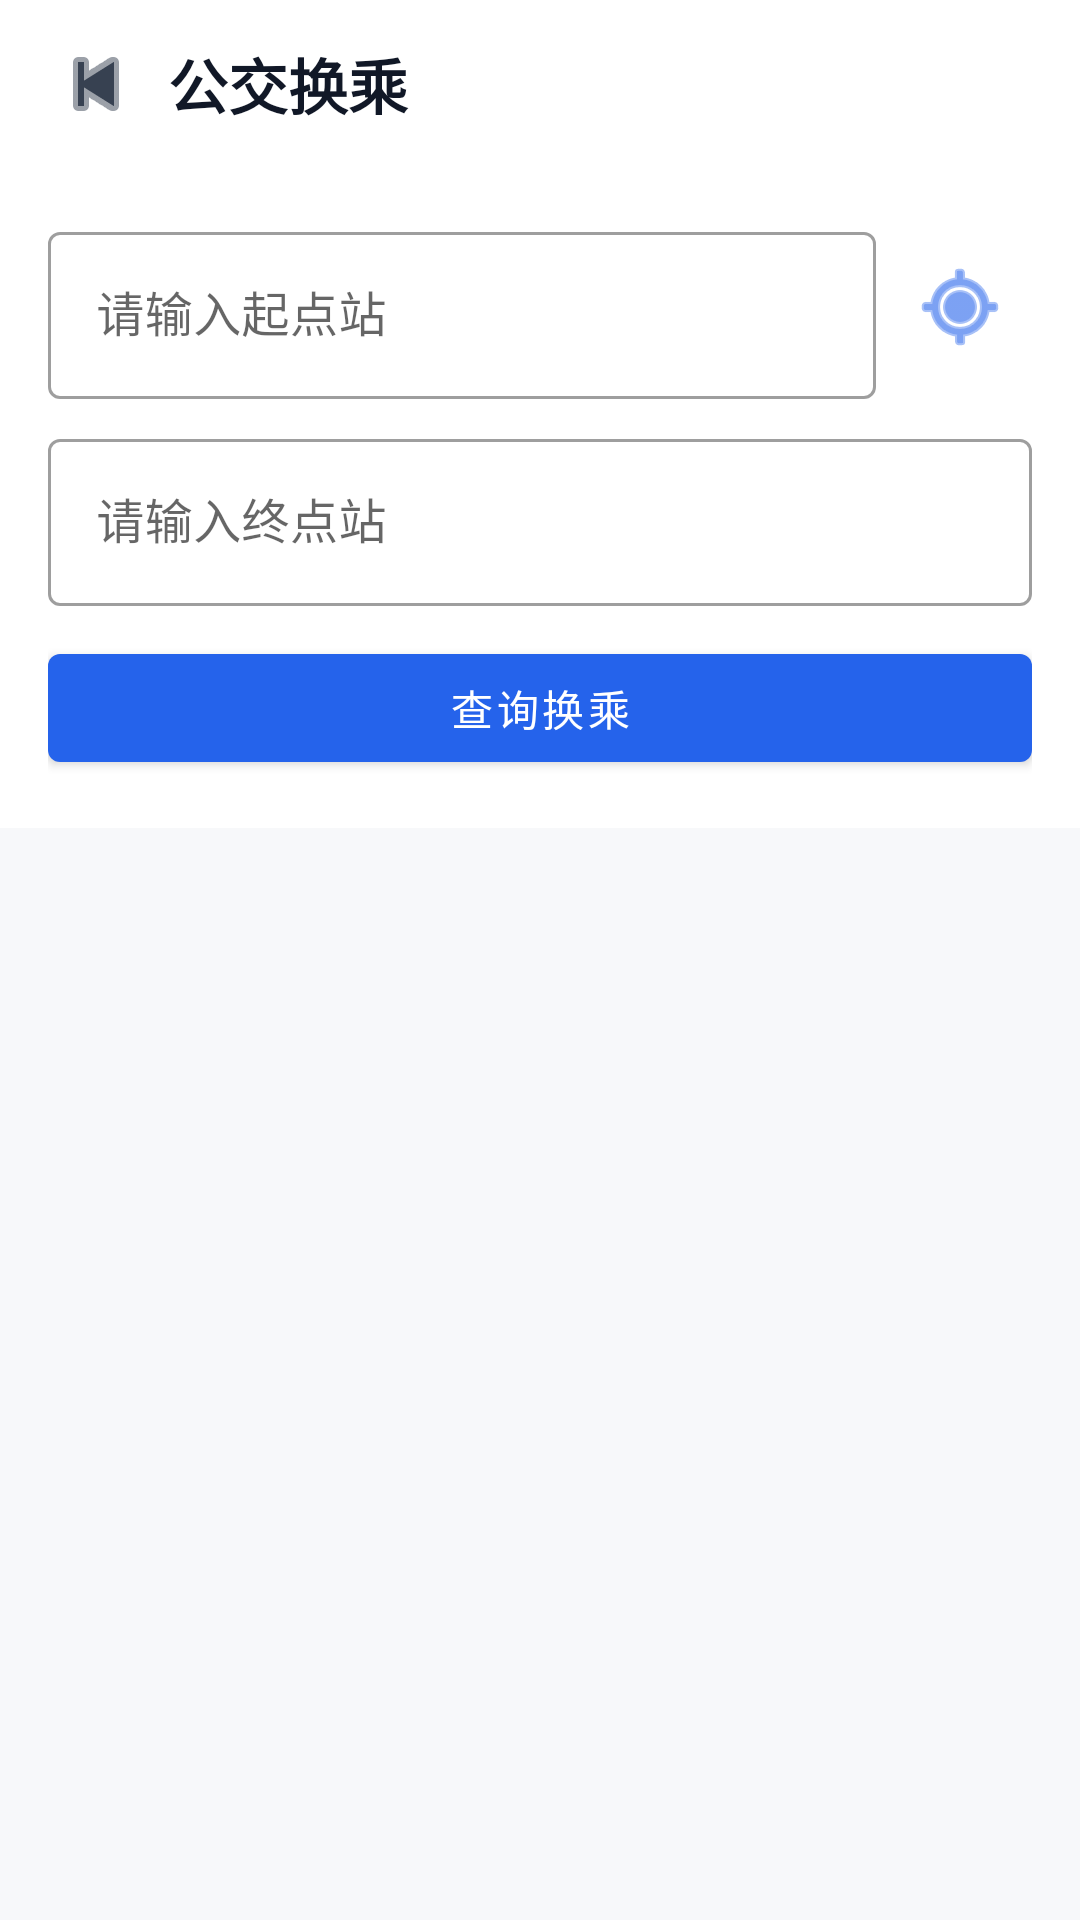

Icon bounding boxes for this 1080px x 1920px phone screenshot, format box(x1, y1, x2, y2):
使用我的位置: box(922, 269, 998, 345)
返回: box(73, 57, 119, 111)
